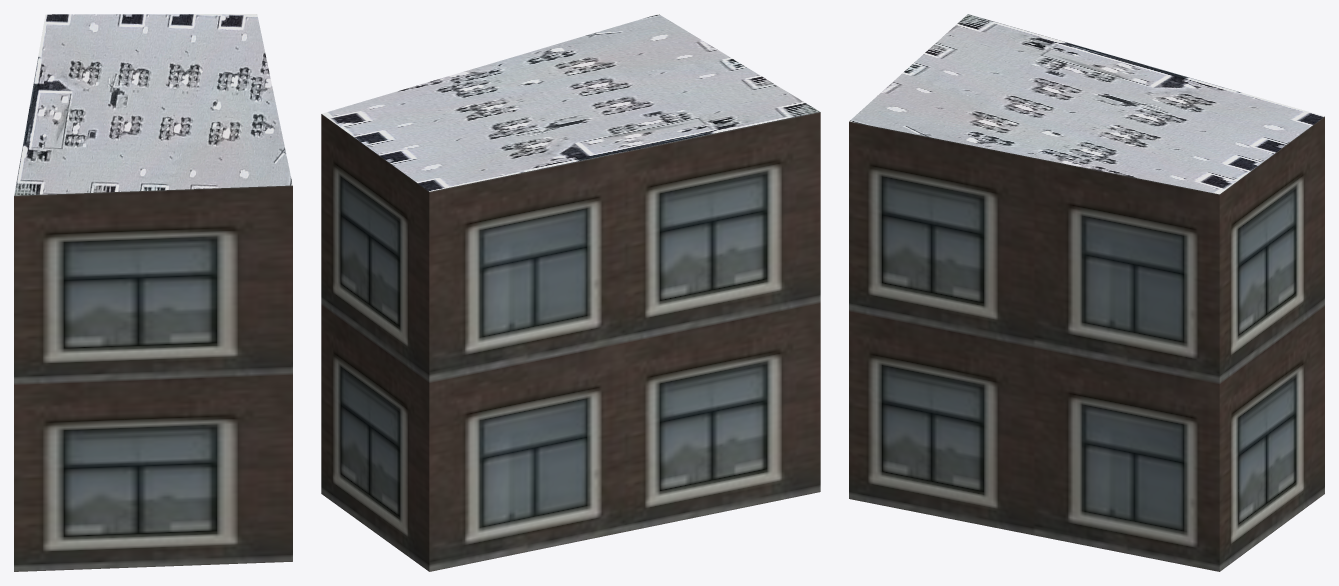
File: ResTex__809.fbx
3 views of the same model, side by side, from view 1: azimuth 30°, elevation 25°; view 2: azimuth 150°, elevation 25°; view 3: azimuth 270°, elevation 25° (orthographic).
Visible parts, largest first — view 1: CityEngineMaterial_16_m, CityEngineMaterial_15_m; view 2: CityEngineMaterial_16_m, CityEngineMaterial_15_m; view 3: CityEngineMaterial_16_m, CityEngineMaterial_15_m.
Part boxes in pixels (x1,y1,x2,y2): CityEngineMaterial_16_m: (14,185,292,571); CityEngineMaterial_15_m: (14,14,292,195); CityEngineMaterial_16_m: (321,112,820,571); CityEngineMaterial_15_m: (321,14,819,191); CityEngineMaterial_16_m: (849,116,1324,571); CityEngineMaterial_15_m: (849,14,1324,194).
Size of the model in its own units: 6.15 by 6 by 6.85.
Materials: 2 (2 with a texture image).
